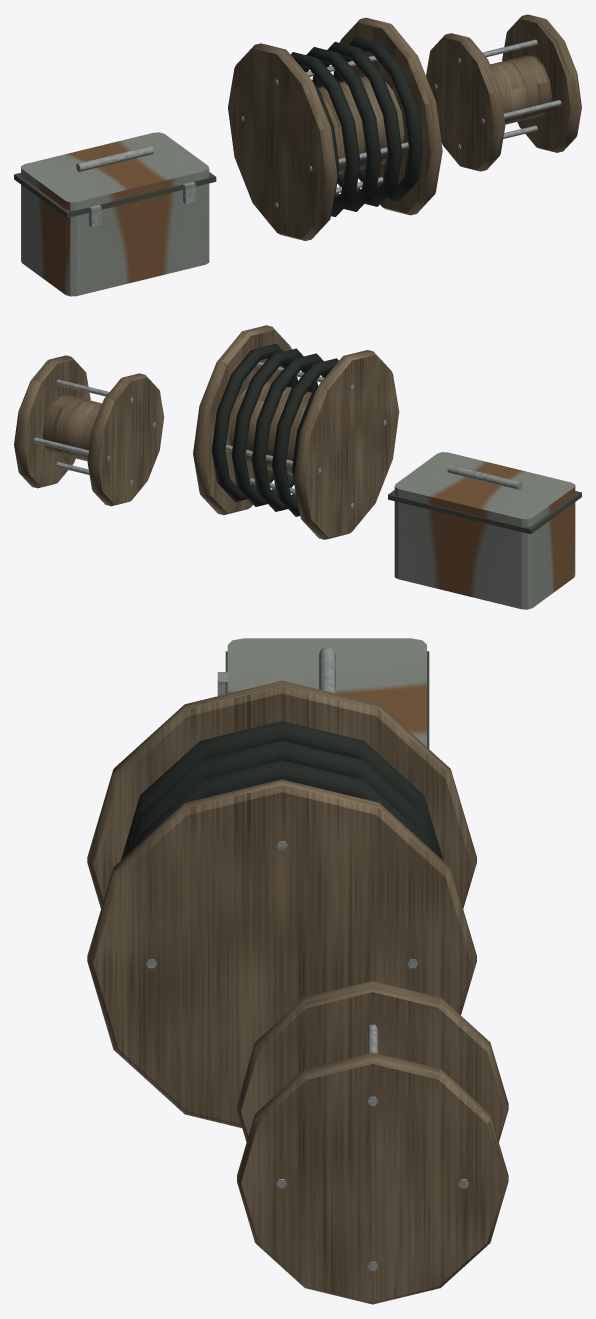
File: SM_SubstationSite_Equipment_LOD1.fbx
The picture shows the model from 3 angles, top to bottom: view 1: azimuth 30°, elevation 25°; view 2: azimuth 150°, elevation 25°; view 3: azimuth 270°, elevation 25°; orthographic projection. The views are drawn at different scales.
Parts seen in each view (by area): view 1: SM_SubstationSite_Equipment_LOD1; view 2: SM_SubstationSite_Equipment_LOD1; view 3: SM_SubstationSite_Equipment_LOD1.
Boxes of the visible parts, box(x1,y1,x2,y2) form: SM_SubstationSite_Equipment_LOD1: box(14, 14, 581, 296); SM_SubstationSite_Equipment_LOD1: box(14, 325, 581, 609); SM_SubstationSite_Equipment_LOD1: box(87, 638, 508, 1304).
Bounding box in the file's own units: 2.54 × 0.93 × 0.86.
